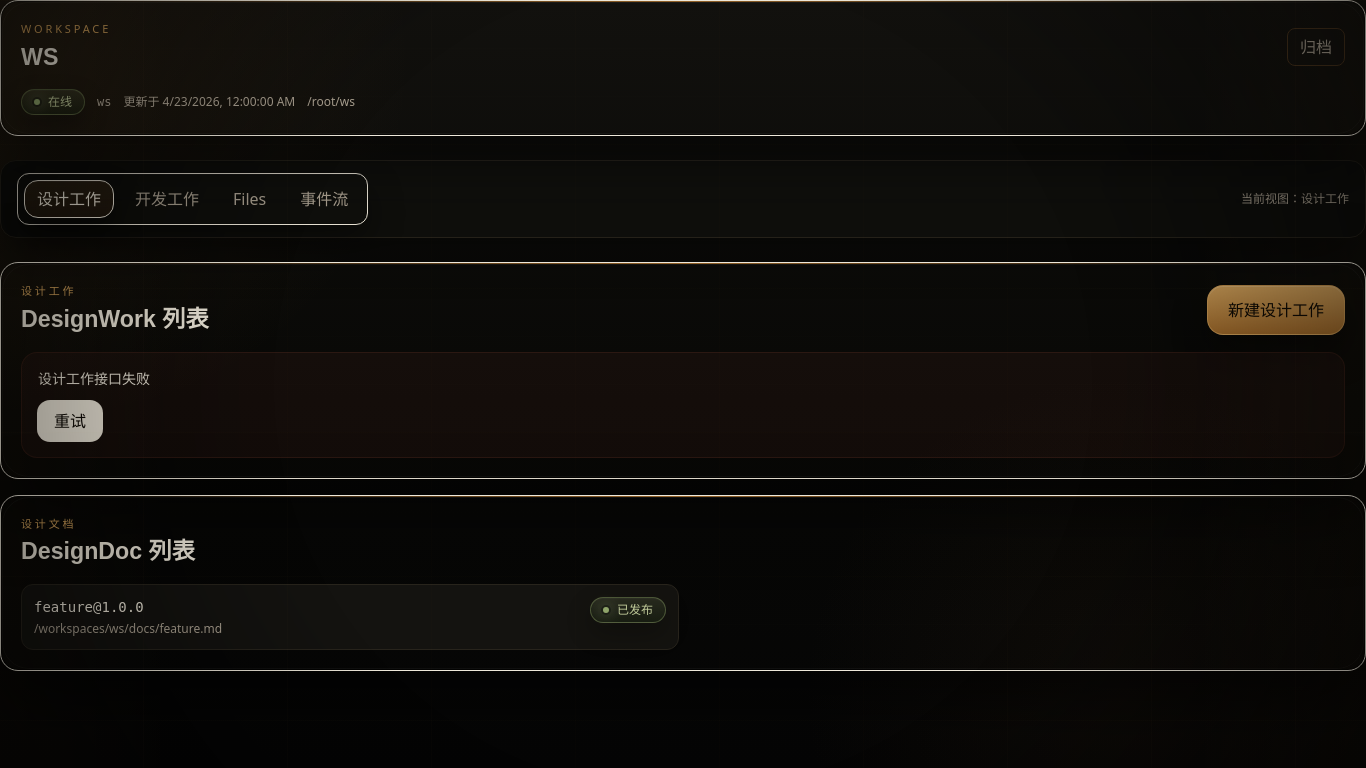
WorkspaceDetailPage › renders a retry state when design work loading fails
The image size is (1366, 768).
Expected: the text "设计工作接口失败" is shown, 38,369 -> 150,388
Click the button "重试" at (70, 421), box 38,401 -> 102,441
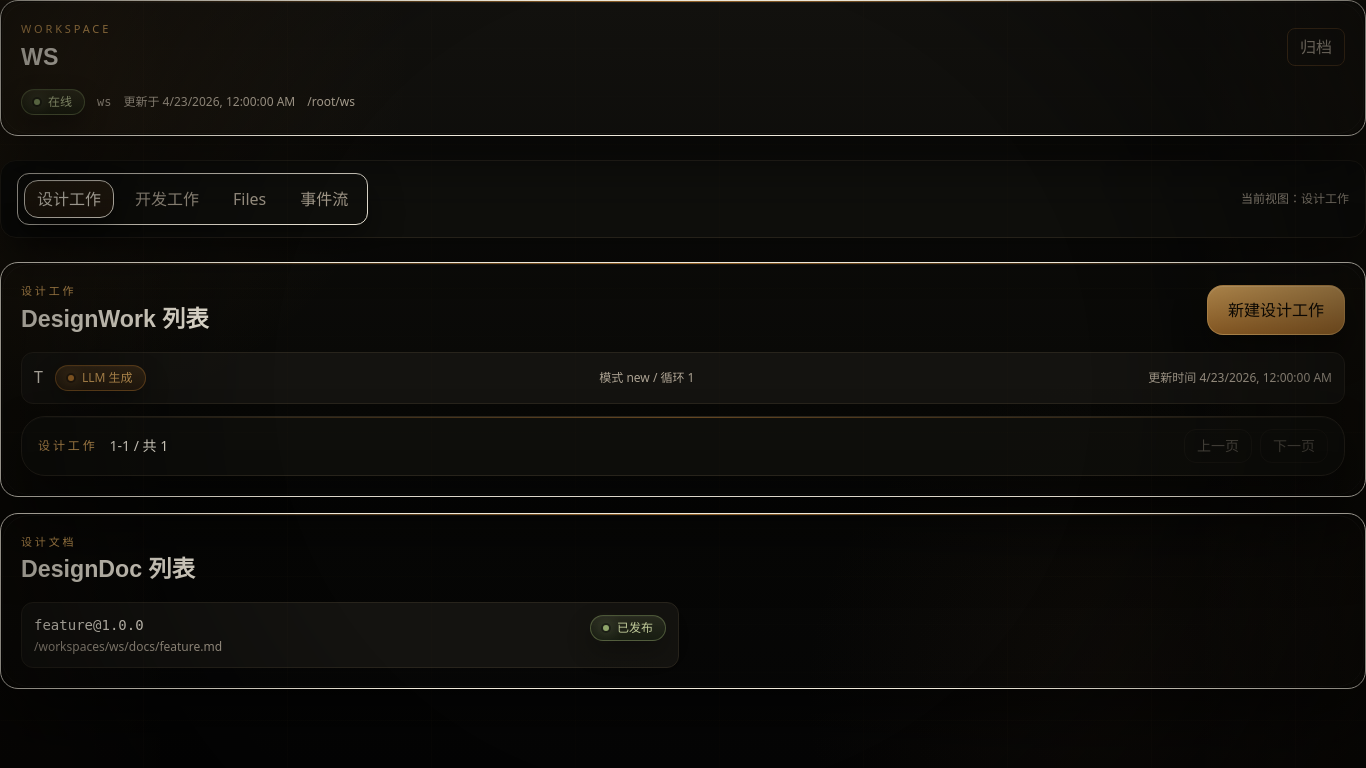
Now the text "T" is shown, box 34,365 -> 43,389
